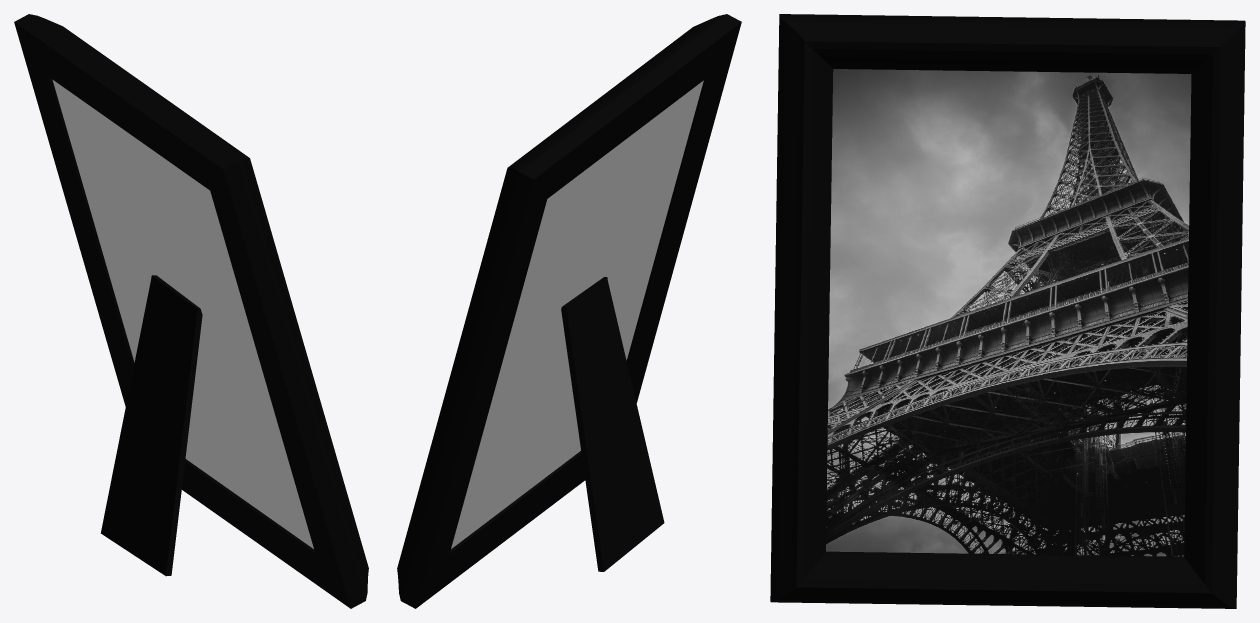
File: frame-5.fbx
The picture shows the model from 3 angles, left to right: view 1: azimuth 30°, elevation 25°; view 2: azimuth 150°, elevation 25°; view 3: azimuth 270°, elevation 25°; orthographic projection. The views are drawn at different scales.
Parts seen in each view (by area): view 1: Frame, Frame_Foot; view 2: Frame, Frame_Foot; view 3: Frame.
Boxes of the visible parts, bbox=[...] form: Frame: bbox=[14, 14, 368, 608]; Frame_Foot: bbox=[100, 275, 202, 576]; Frame: bbox=[397, 14, 741, 608]; Frame_Foot: bbox=[561, 277, 664, 571]; Frame: bbox=[770, 14, 1245, 608].
Bounding box in the file's own units: 66.24 × 197 × 160.
Materials: 3 (1 with a texture image).
